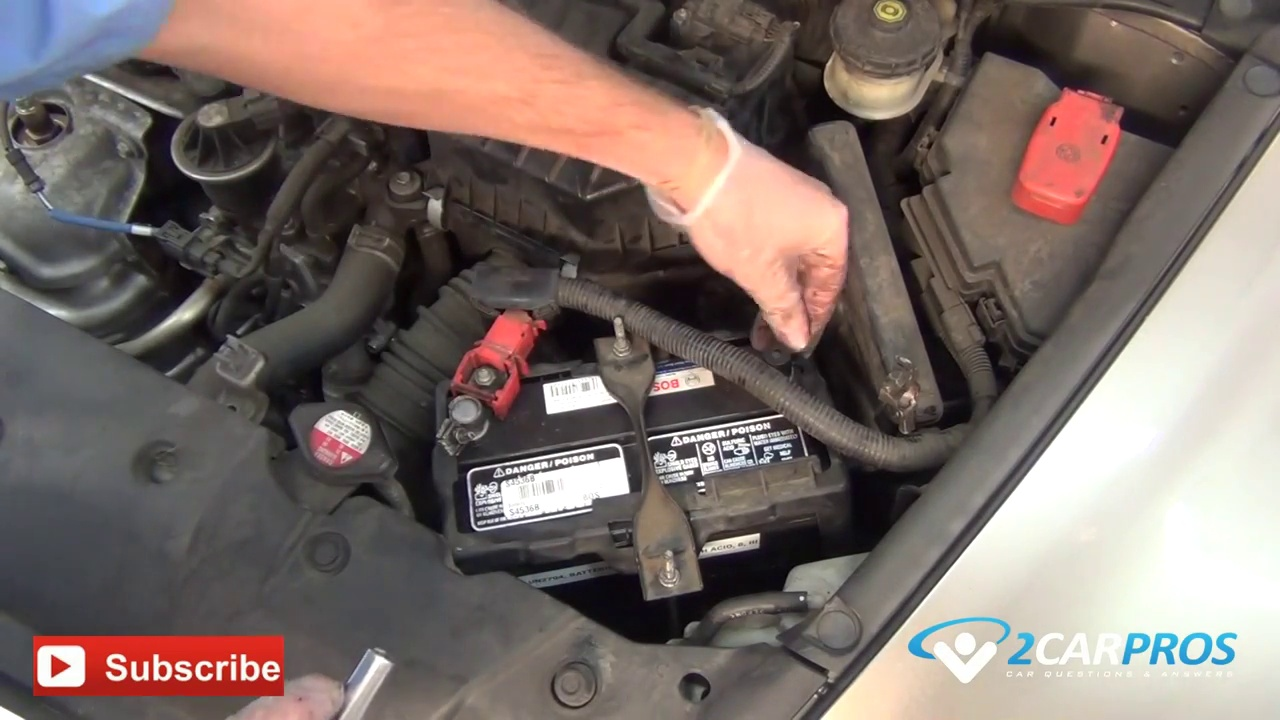battery: (429, 315, 820, 539)
neg_touched: (725, 244, 842, 388)
pos_connected: (425, 298, 545, 462)
